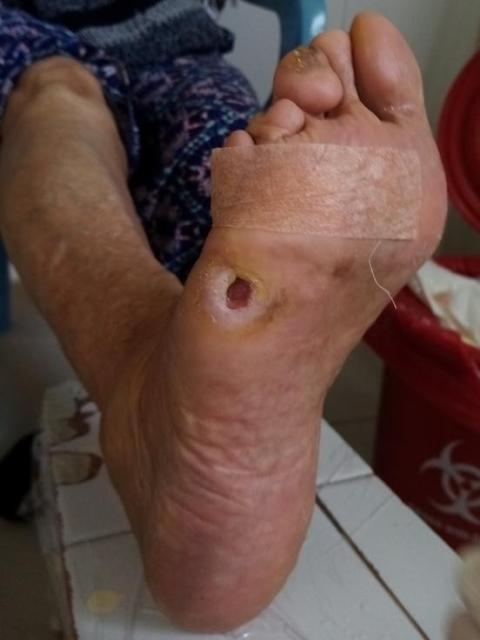wound: (211, 266, 270, 321)
